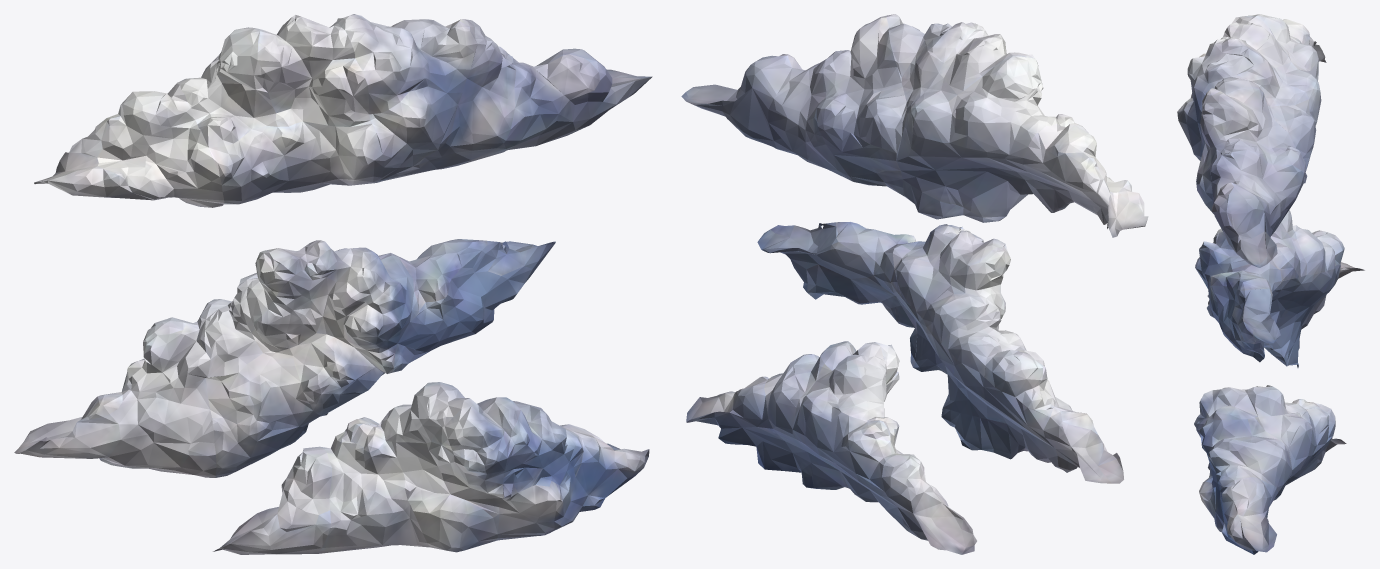
The model's file is cloud2.glb.
3 renders of one model, left to right at view 1: azimuth 30°, elevation 25°; view 2: azimuth 150°, elevation 25°; view 3: azimuth 270°, elevation 25°, orthographic. The views are drawn at different scales.
Parts seen in each view (by area): view 1: tripo_node_da3cae98-9560-45a6-b839-61175cbe1882; view 2: tripo_node_da3cae98-9560-45a6-b839-61175cbe1882; view 3: tripo_node_da3cae98-9560-45a6-b839-61175cbe1882.
Part boxes in pixels (x1,y1,x2,y2): tripo_node_da3cae98-9560-45a6-b839-61175cbe1882: (14,14,652,554); tripo_node_da3cae98-9560-45a6-b839-61175cbe1882: (681,14,1148,554); tripo_node_da3cae98-9560-45a6-b839-61175cbe1882: (1177,14,1364,554).
Size of the model in its own units: 0.9793 by 0.9224 by 0.3621.
1 material, 1 textured.
